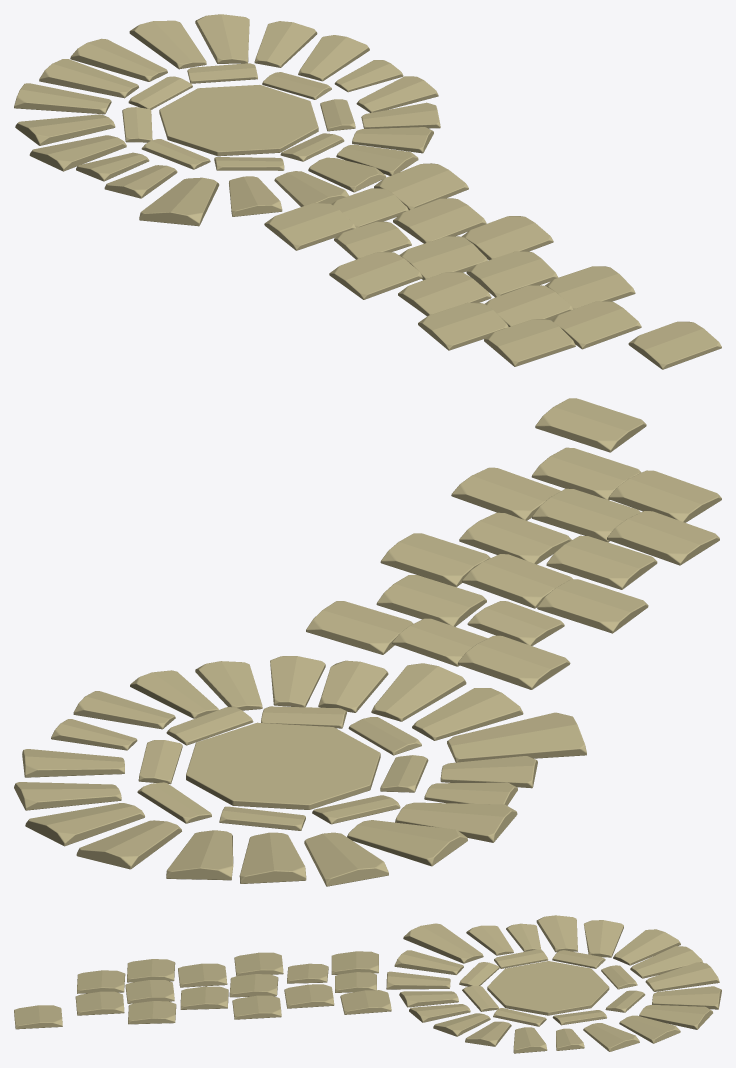
The model's file is Tile_high.fbx.
The picture shows the model from 3 angles, top to bottom: view 1: azimuth 30°, elevation 25°; view 2: azimuth 150°, elevation 25°; view 3: azimuth 270°, elevation 25°; orthographic projection. The views are drawn at different scales.
Visible parts, largest first — view 1: Tile_high; view 2: Tile_high; view 3: Tile_high.
Boxes of the visible parts, left/top/right/bottom form: Tile_high: left=14, top=14, right=721, bottom=369; Tile_high: left=14, top=398, right=721, bottom=886; Tile_high: left=14, top=915, right=721, bottom=1053.
Bounding box in the file's own units: 330 × 20.11 × 744.
